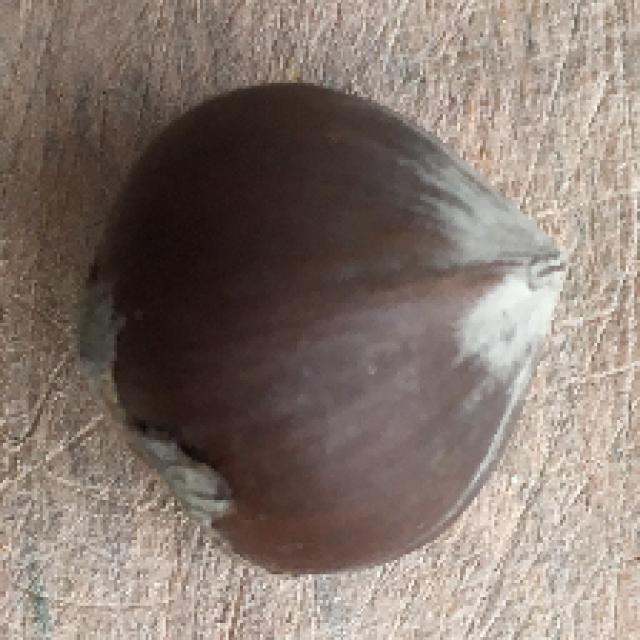damagedHazelnut: (71, 78, 575, 577)
